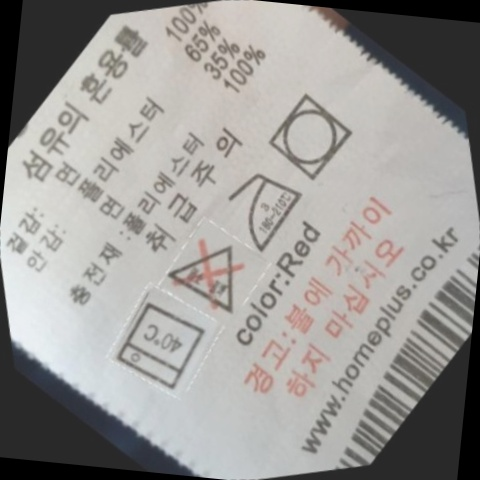40C: (109, 290, 222, 400)
iron_high: (224, 155, 316, 256)
non_chlorine_bleach: (162, 224, 262, 324)
tumble_dry_normal: (255, 75, 372, 197)
